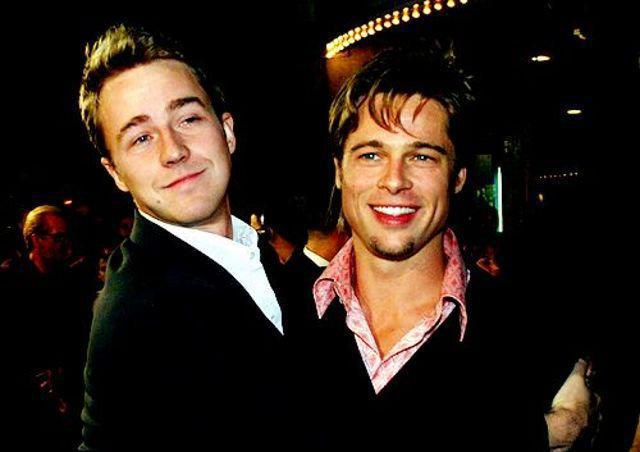Drunk: (104, 74, 230, 215), (339, 97, 448, 249)
